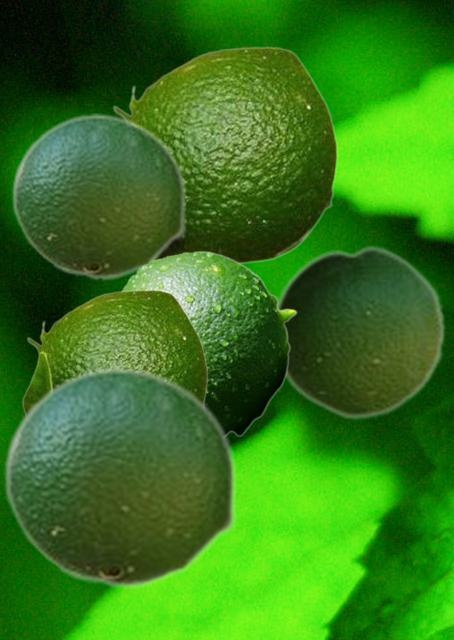dalandan: (3, 366, 237, 589), (112, 46, 337, 264), (120, 250, 296, 437), (278, 243, 445, 420), (11, 113, 186, 280), (21, 289, 207, 412)
